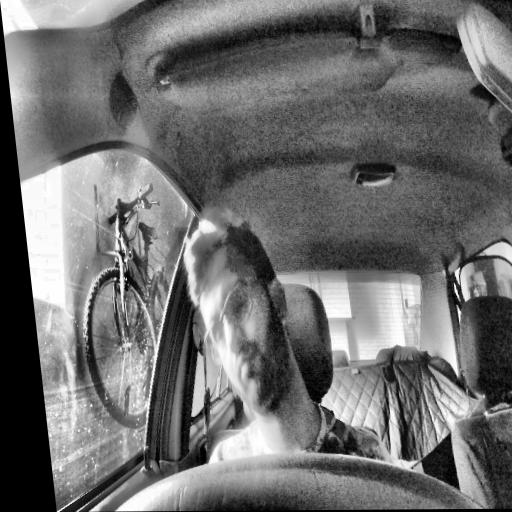drowsy: (177, 202, 298, 414)
